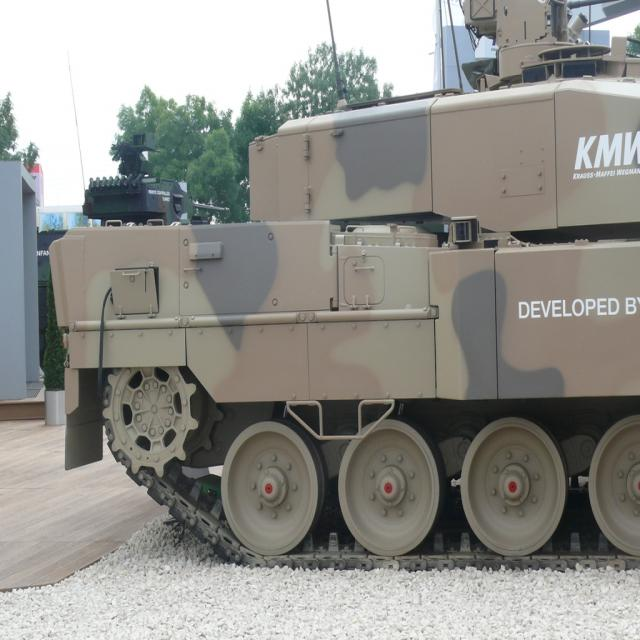tank: (46, 0, 639, 569), (64, 49, 230, 226)
